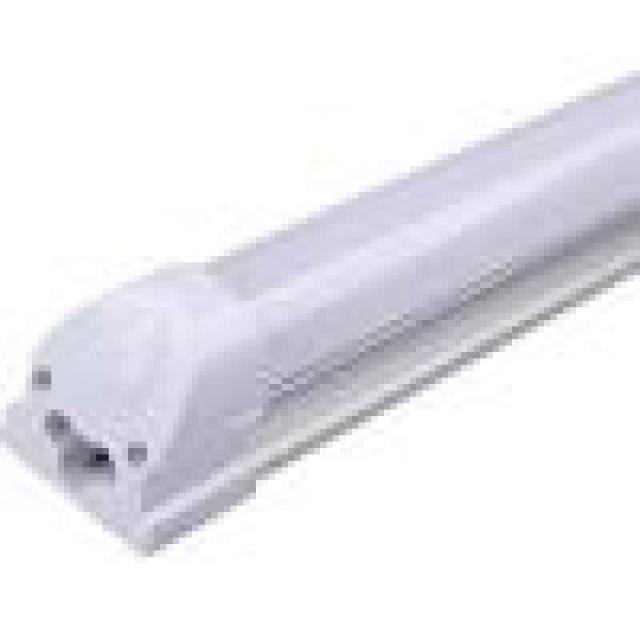tubelight_off: (1, 63, 640, 573)
